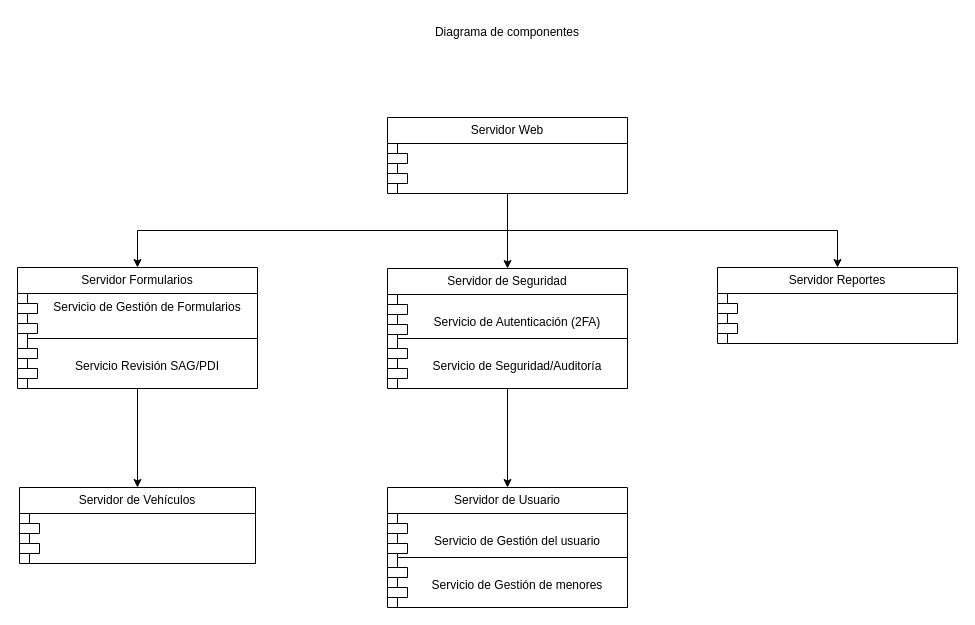
This 975x625 diagram has some shape labels left out. The centre of each missing label's shape, as x and y in pixels:
Servicio de Gestión de Reportes: pixel 837 318
Servicio de Gestión de Vehículos: pixel 137 538
Servicio Portal Web del Usuario: pixel 507 168
